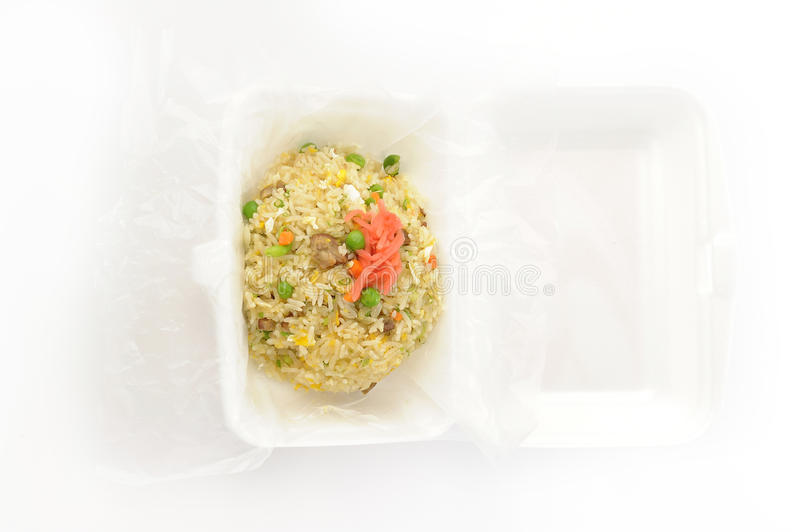Foam Box: (182, 76, 749, 463)
